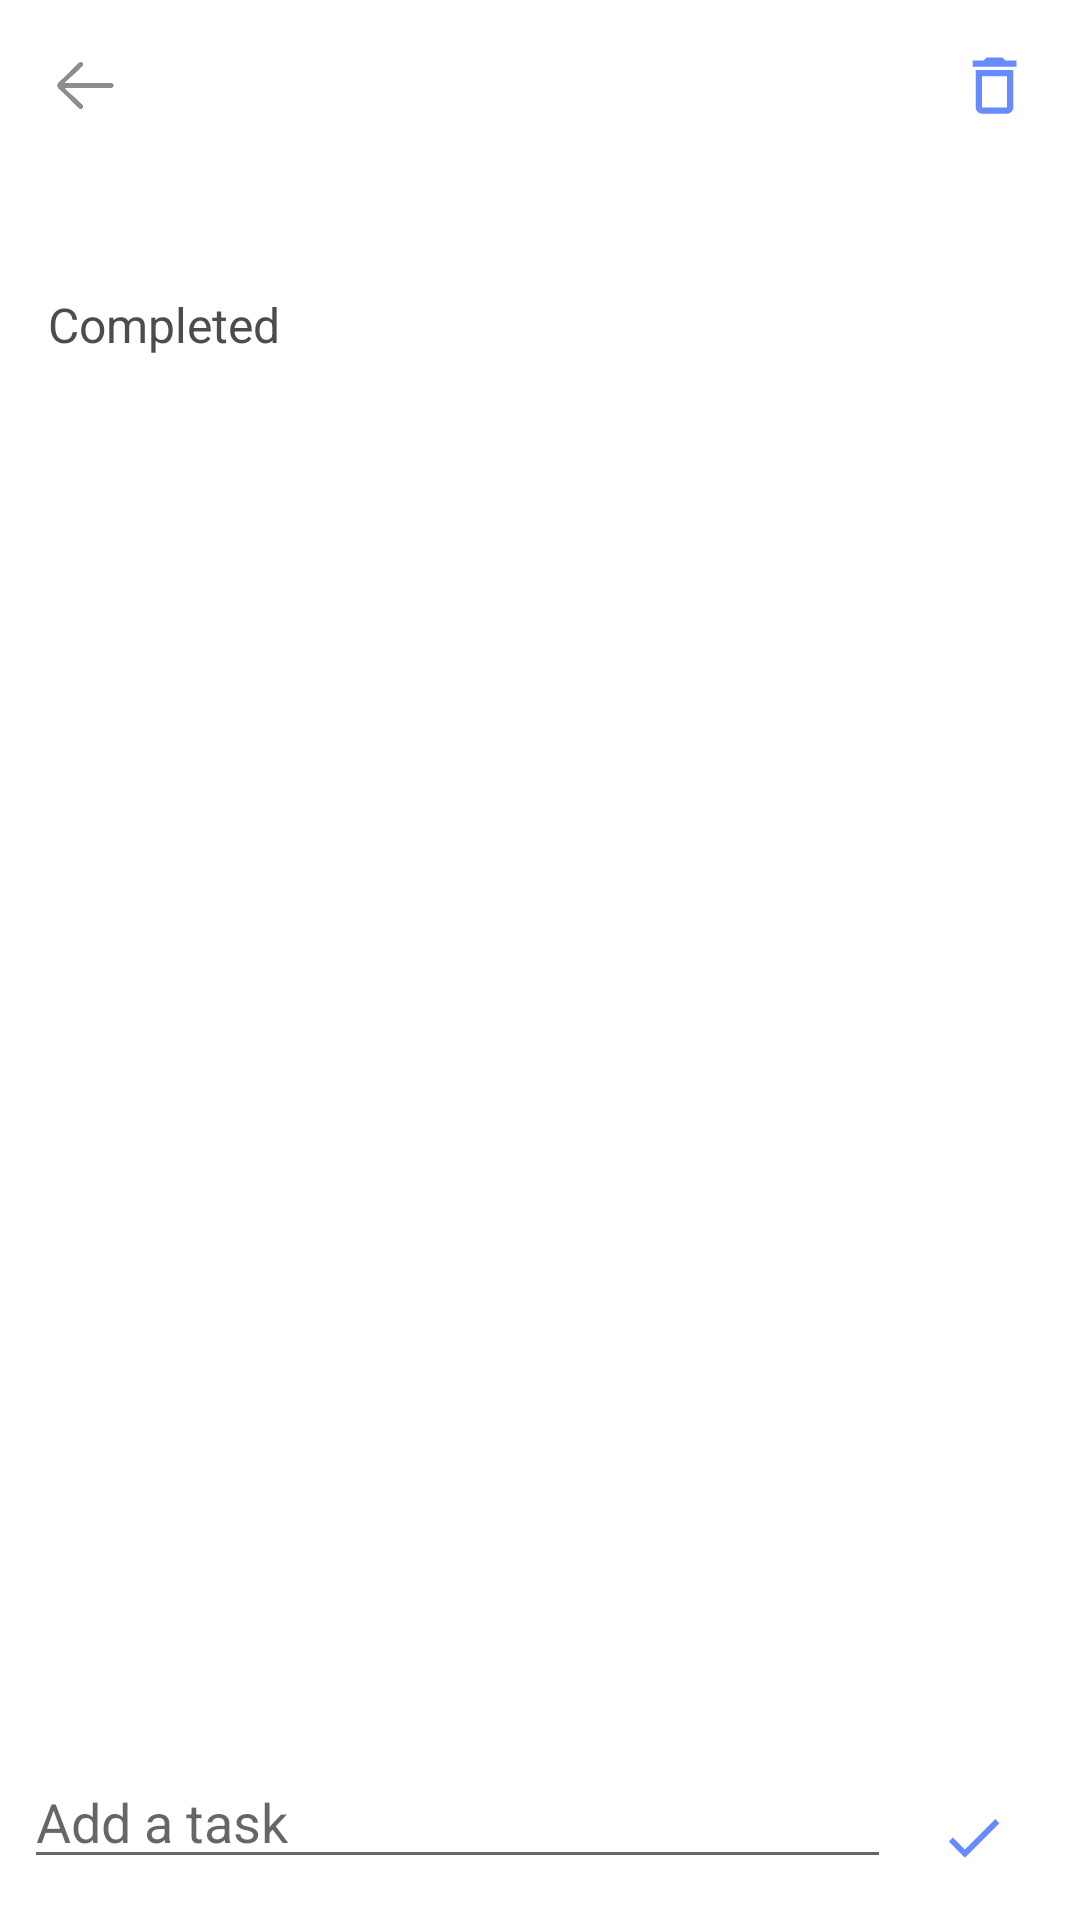

Icon click points for this 1080×1920 phone screenshot, format point (x, y):
back: point (85, 85)
Delete the list: point (994, 85)
